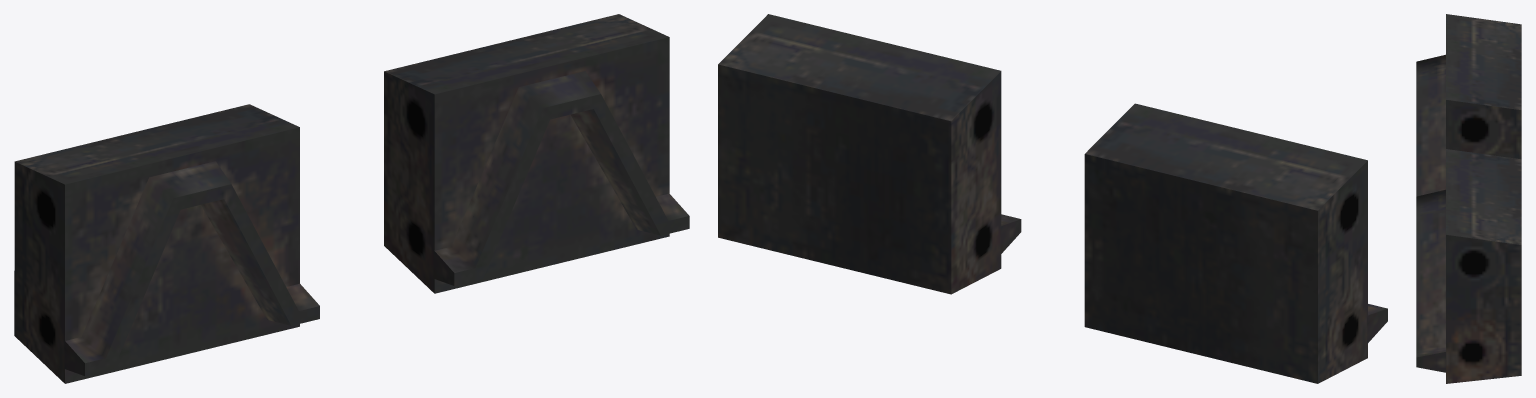
3 renders of one model, left to right at view 1: azimuth 30°, elevation 25°; view 2: azimuth 150°, elevation 25°; view 3: azimuth 270°, elevation 25°, orthographic. The views are drawn at different scales.
Parts seen in each view (by area): view 1: set_0_group_0; view 2: set_0_group_0; view 3: set_0_group_0.
Part boxes in pixels (x1=…): set_0_group_0: x1=14, y1=14, x2=689, y2=383; set_0_group_0: x1=718, y1=14, x2=1387, y2=383; set_0_group_0: x1=1416, y1=14, x2=1521, y2=383.
Bounding box in the file's own units: 0.472 × 0.1487 × 0.0954.
Materials: 1 (1 with a texture image).
